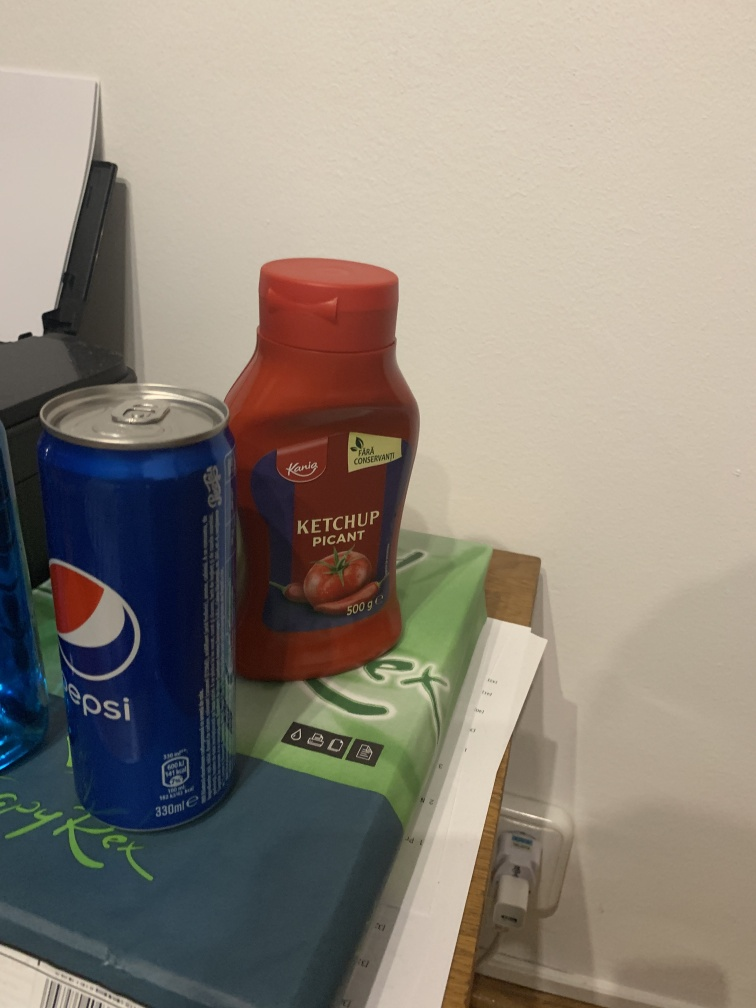ketchup: (223, 252, 423, 691)
pepsi: (33, 380, 242, 839)
